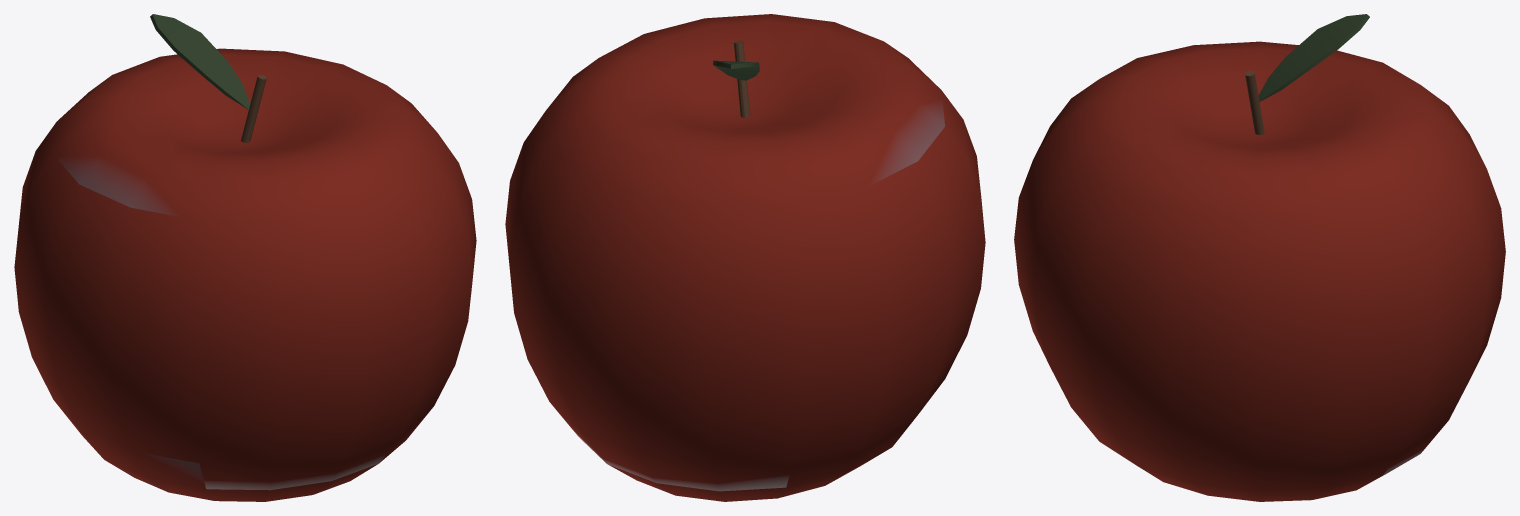
File: jablko.fbx
3 renders of one model, left to right at view 1: azimuth 30°, elevation 25°; view 2: azimuth 150°, elevation 25°; view 3: azimuth 270°, elevation 25°, orthographic. The views are drawn at different scales.
Visible parts, largest first — view 1: JABLKO; view 2: JABLKO; view 3: JABLKO.
Boxes of the visible parts, x1,y1,x2,y2 form: JABLKO: [14, 14, 476, 501]; JABLKO: [505, 14, 985, 501]; JABLKO: [1014, 14, 1505, 501].
Bounding box in the file's own units: 145 × 138 × 144.
